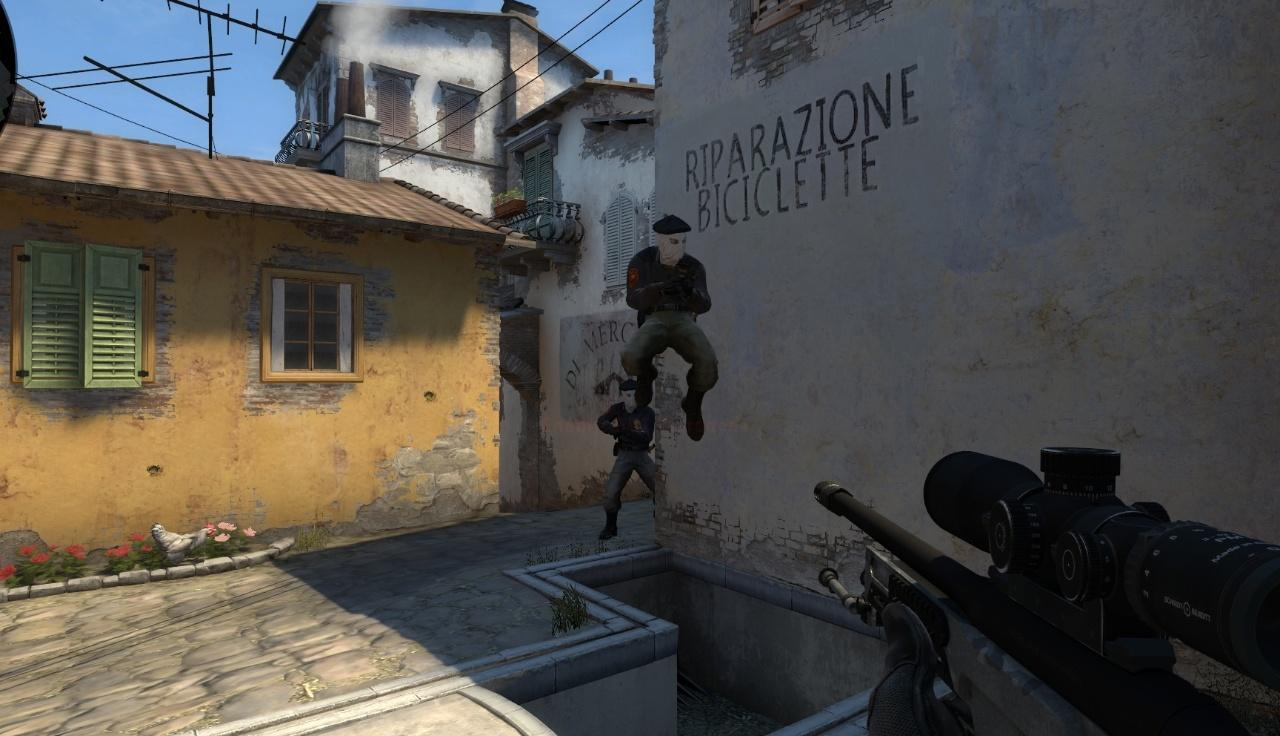sniper: (806, 434, 1280, 736)
tt: (627, 214, 718, 377), (601, 389, 654, 543)
tthead: (654, 219, 689, 265), (622, 381, 639, 412)
